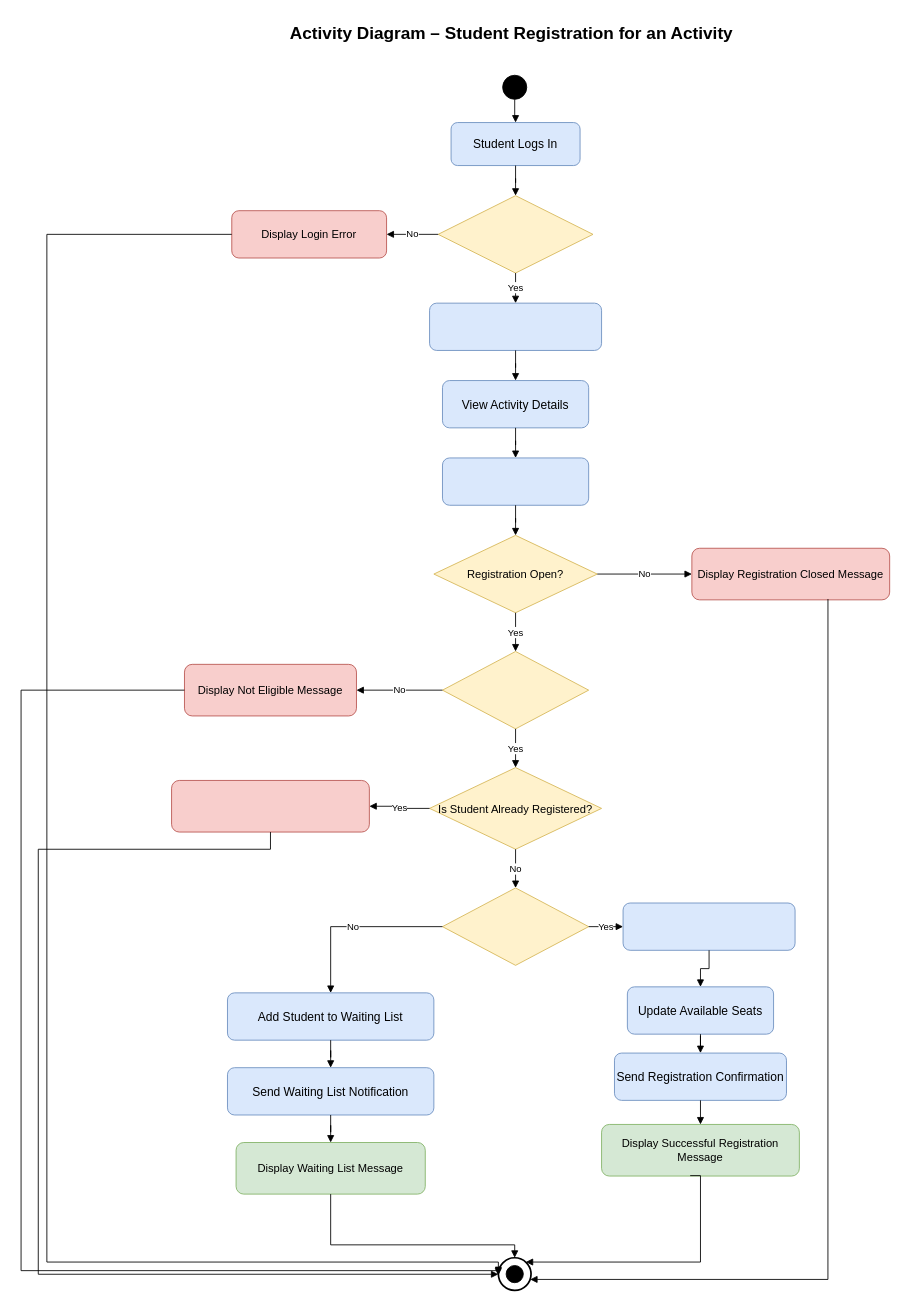
Some shapes in this 905 by 1305 pixel diagram are drawn without their labels. Here are the shapes that lost their labels. From the top down, the centre of each, then its label:
pixel 515 234: Credentials Valid?
pixel 515 326: Browse / Search Activities
pixel 515 481: Register for Activity
pixel 515 690: Is Student Eligible?
pixel 270 806: Display Already Registered Message
pixel 515 926: Are Seats Available?
pixel 708 926: Create Registration Record
